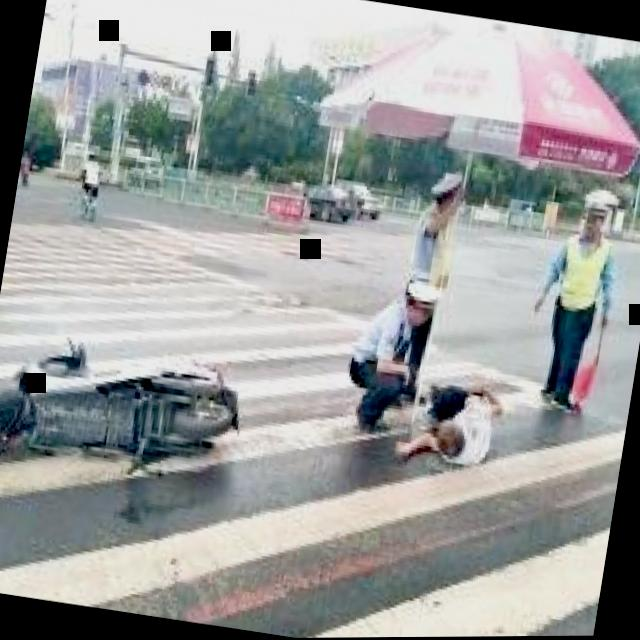Fall-Detected: (394, 354, 518, 487)
